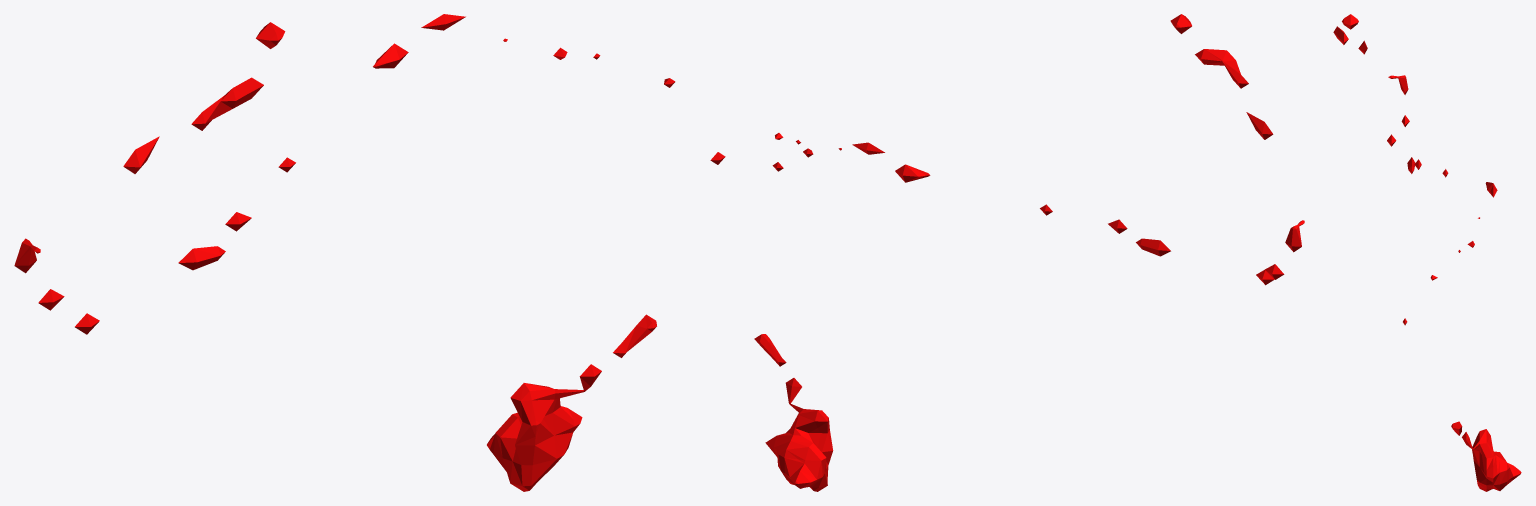
The model's file is aceF_coarse.dae.
3 renders of one model, left to right at view 1: azimuth 30°, elevation 25°; view 2: azimuth 150°, elevation 25°; view 3: azimuth 270°, elevation 25°, orthographic. The views are drawn at different scales.
Parts seen in each view (by area): view 1: aceF; view 2: aceF; view 3: aceF.
Part boxes in pixels (bbox=[...]): aceF: bbox=[14, 14, 725, 491]; aceF: bbox=[754, 14, 1304, 491]; aceF: bbox=[1333, 14, 1521, 491].
Bounding box in the file's own units: 501 × 435 × 199.
